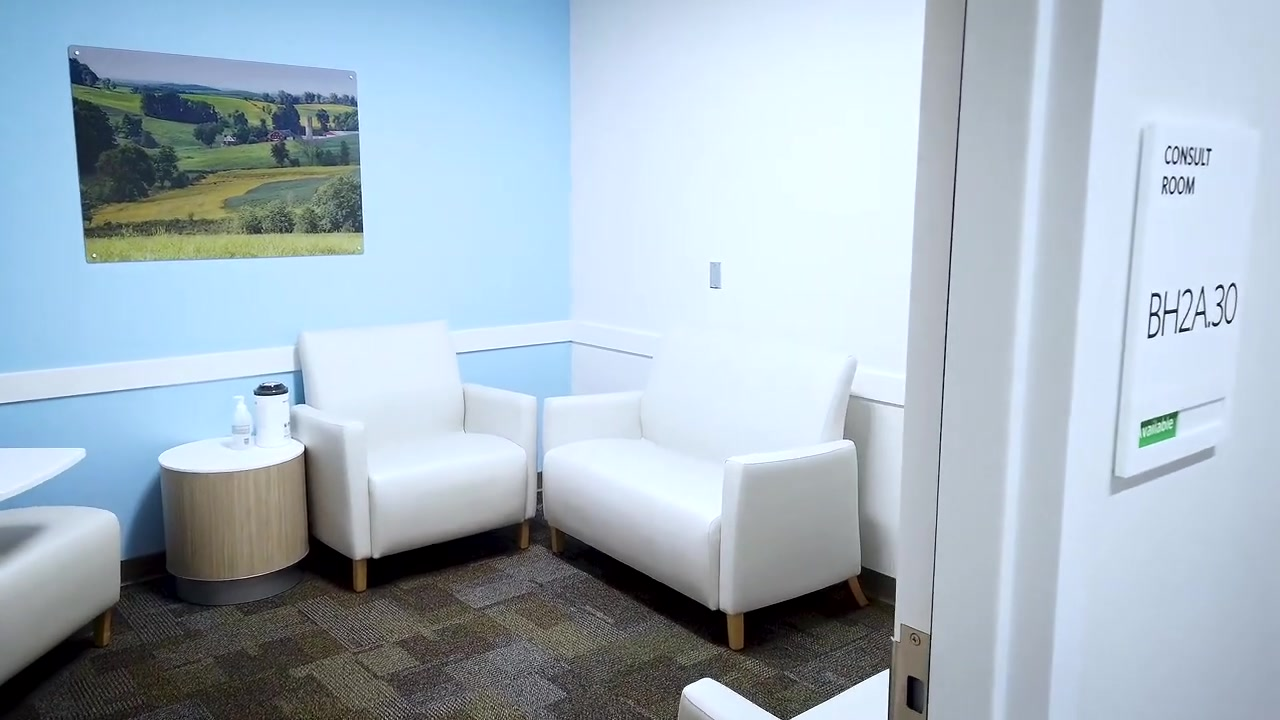chair: (1, 506, 120, 686)
dispenser: (226, 399, 254, 448)
sofa: (543, 327, 868, 649), (291, 318, 537, 592), (677, 668, 891, 720)
table: (158, 436, 310, 604)
